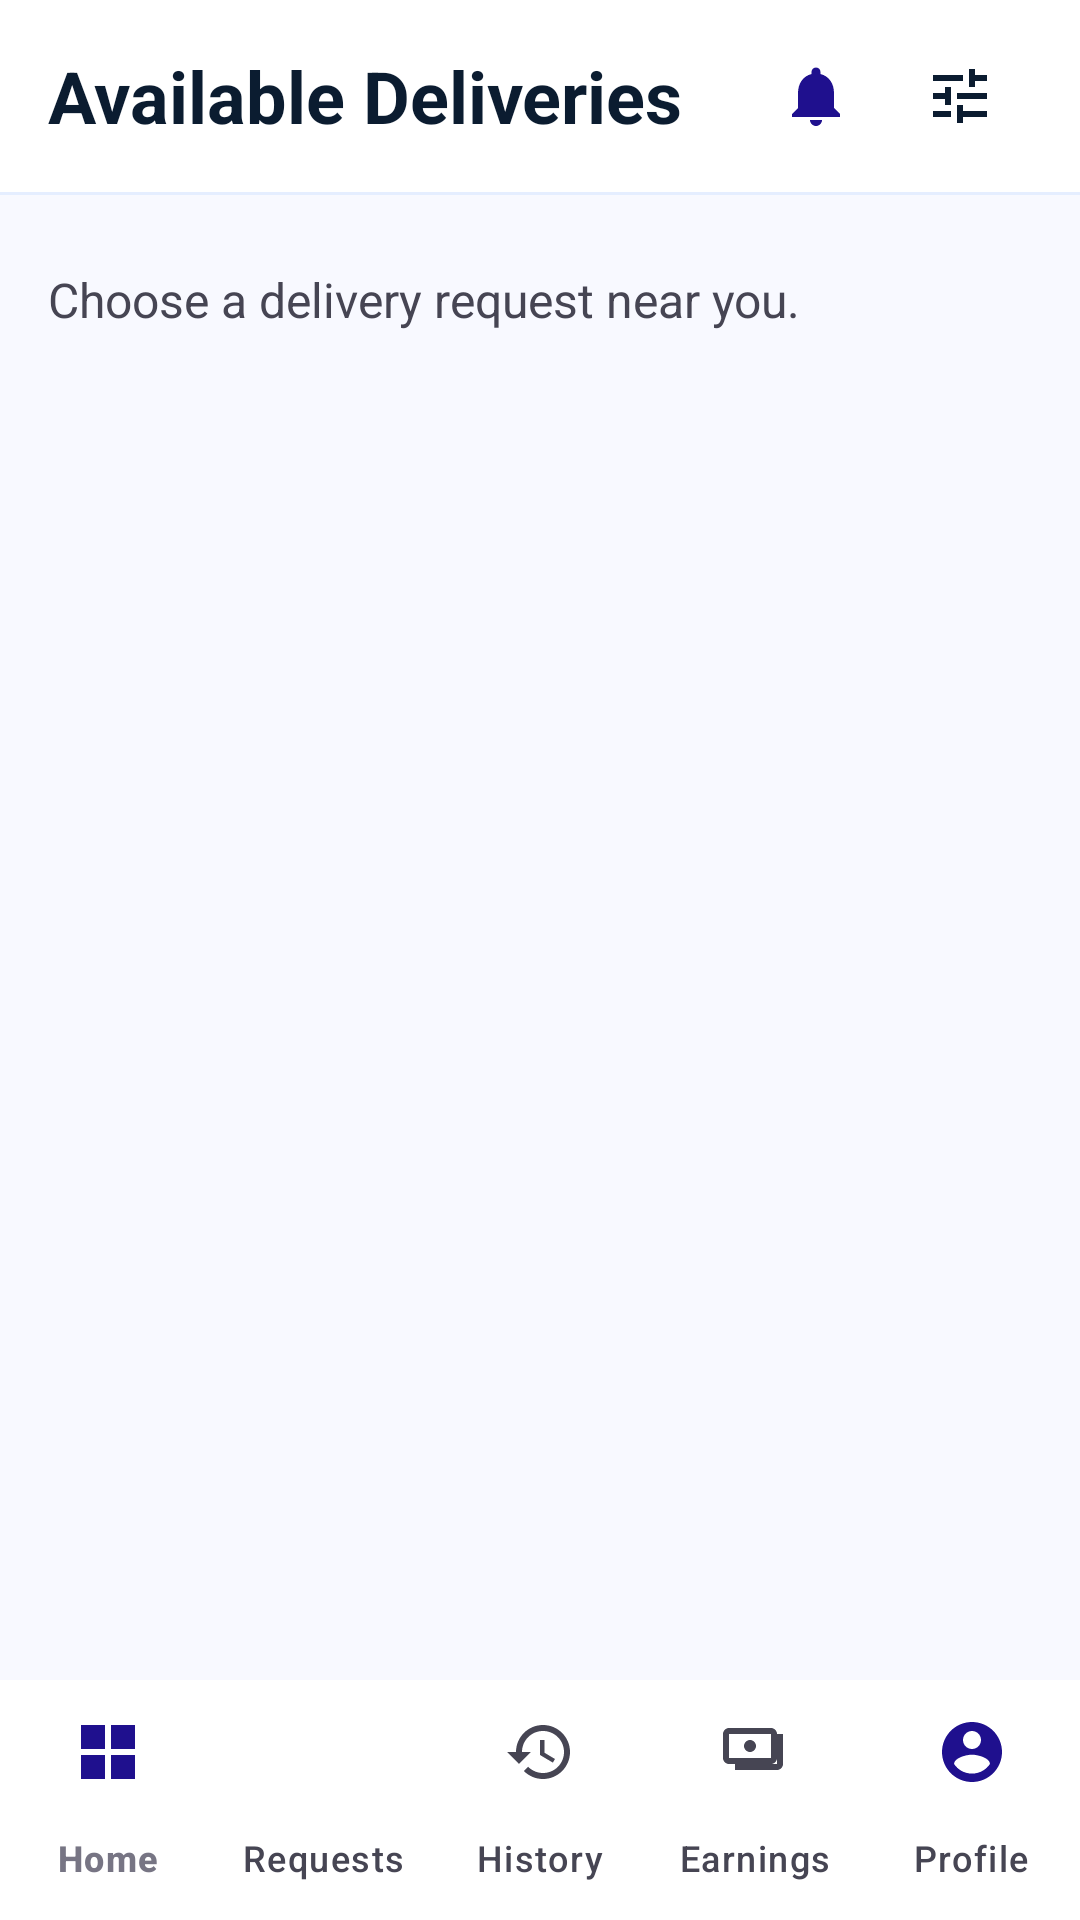

Icons on this 1080px x 1920px Android screen, each with the point to tap as [x,y]:
Filter: [960,96]
Notifications: [816,96]
